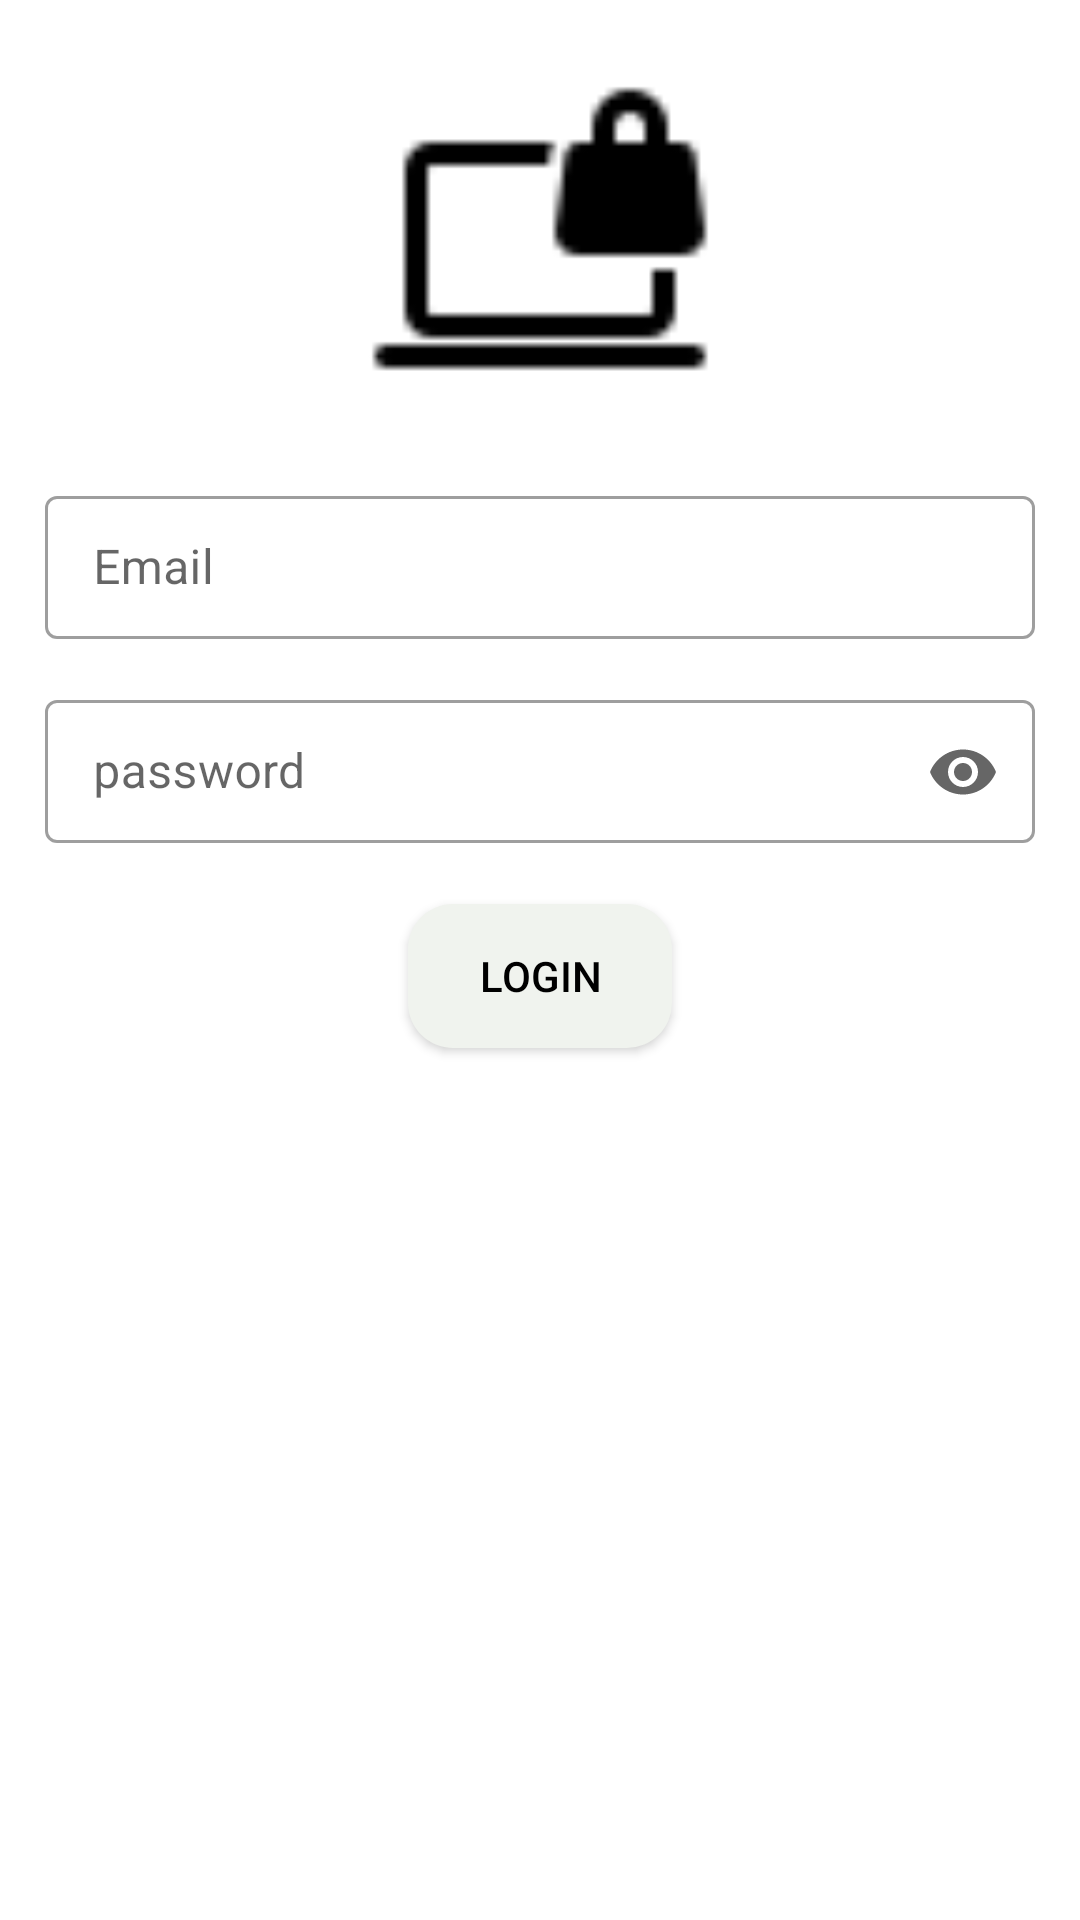

Where icons sit on this 1080px×1920px app screen, as BBox(x1, y1, x2, y2):
report laptop: BBox(372, 87, 708, 371)
